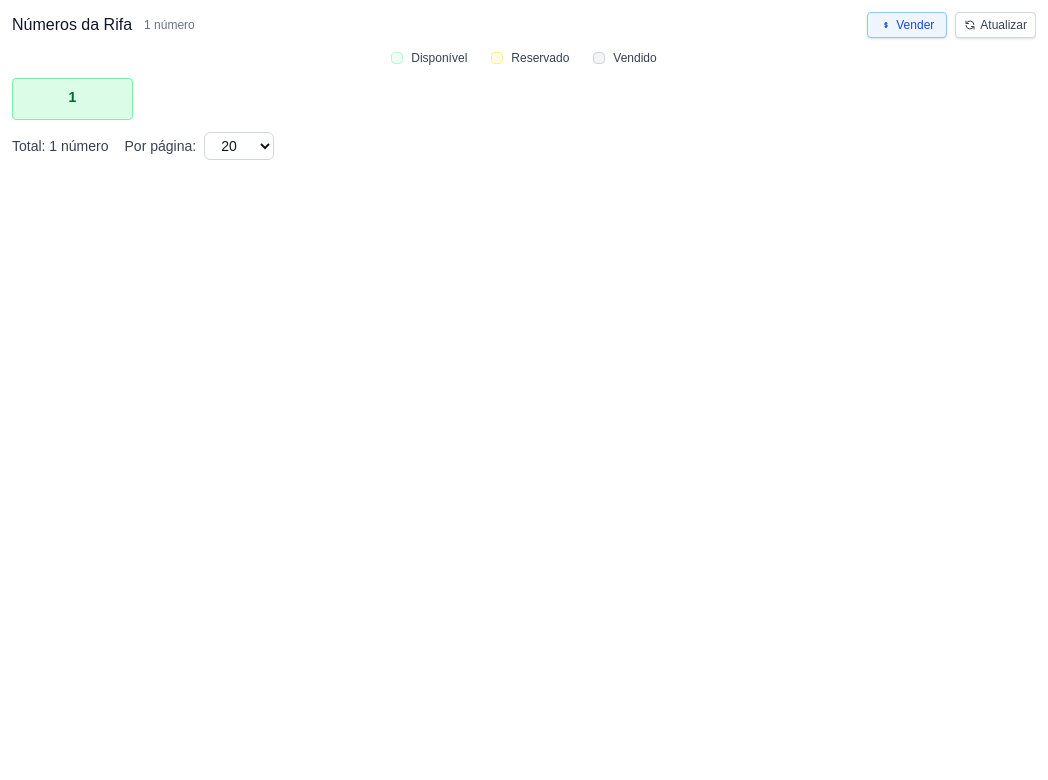
Test: Raffle Sale Integration › should handle empty reserved numbers
// Abrir modal de venda
Step 1. Click the button "Vender" → x=907, y=25, box [867,12,947,38]
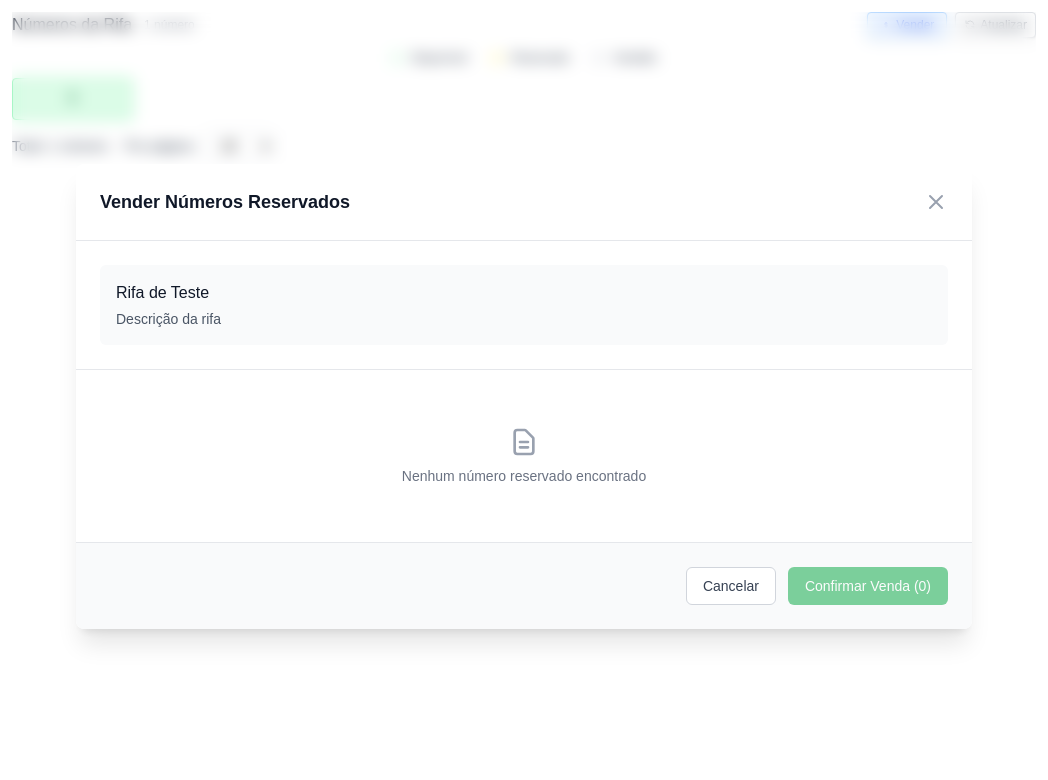
Result: the text "Nenhum número reservado encontrado" is shown at [402,468,646,484]
